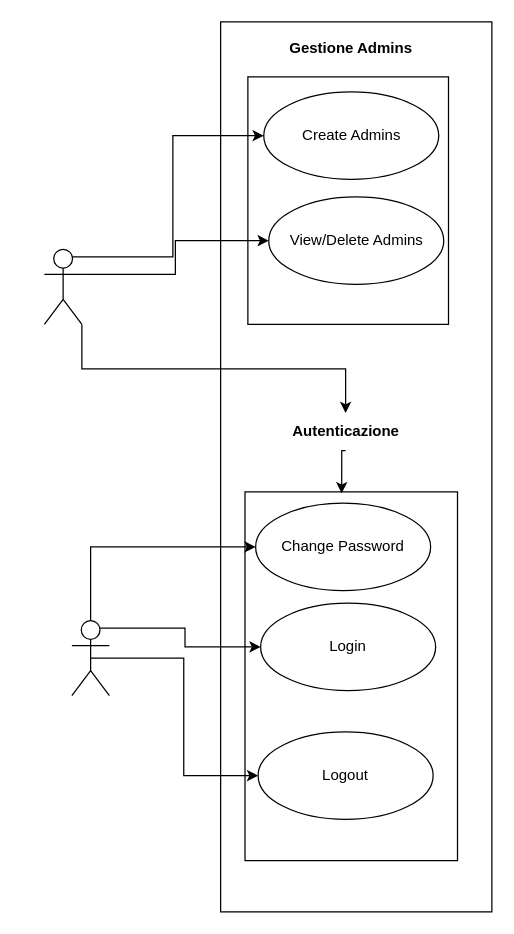
This 514x934 diagram has some shape labels left out. Here are the shapes that lost their labels. From the top down, the centre of each, then its label:
the point at 62,286: SuperAdmin
the point at 90,657: Admin generico
